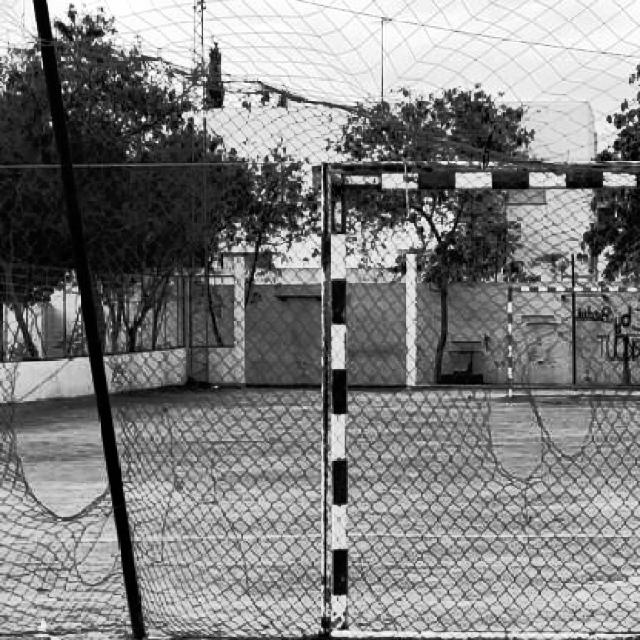anomaly-fence: (0, 224, 217, 626), (448, 198, 634, 531)
